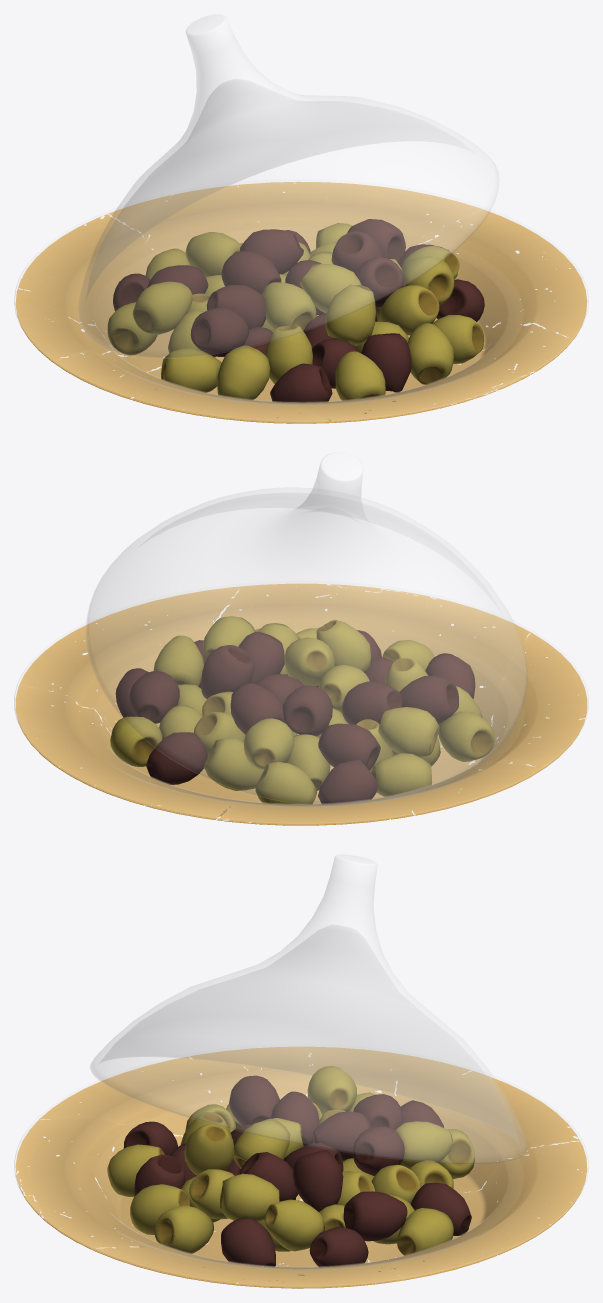
File: IridescentDishWithOlives.glb
The picture shows the model from 3 angles, top to bottom: view 1: azimuth 30°, elevation 25°; view 2: azimuth 150°, elevation 25°; view 3: azimuth 270°, elevation 25°; orthographic projection.
Parts seen in each view (by area): view 1: glassCover, goldLeaf, glassDish, olives; view 2: glassCover, glassDish, goldLeaf, olives; view 3: glassCover, goldLeaf, olives, glassDish.
Part boxes in pixels (box(x1,y1,x2,y2)): glassCover: box(78, 14, 499, 358); goldLeaf: box(15, 181, 587, 423); glassDish: box(14, 179, 588, 422); olives: box(107, 219, 484, 402); glassCover: box(86, 452, 527, 805); glassDish: box(14, 581, 588, 824); goldLeaf: box(15, 583, 587, 825); olives: box(110, 616, 494, 804); glassCover: box(90, 854, 527, 1164); goldLeaf: box(15, 1047, 587, 1288); olives: box(107, 1066, 474, 1267); glassDish: box(14, 1057, 588, 1287).
Size of the model in its own units: 0.4593 by 0.2855 by 0.4593.
Materials: 4 (2 with a texture image).
